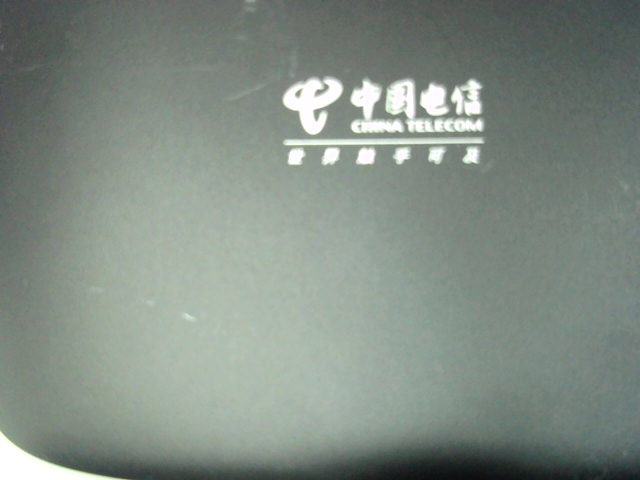AB_ChinaTelecom: (270, 75, 504, 170)
